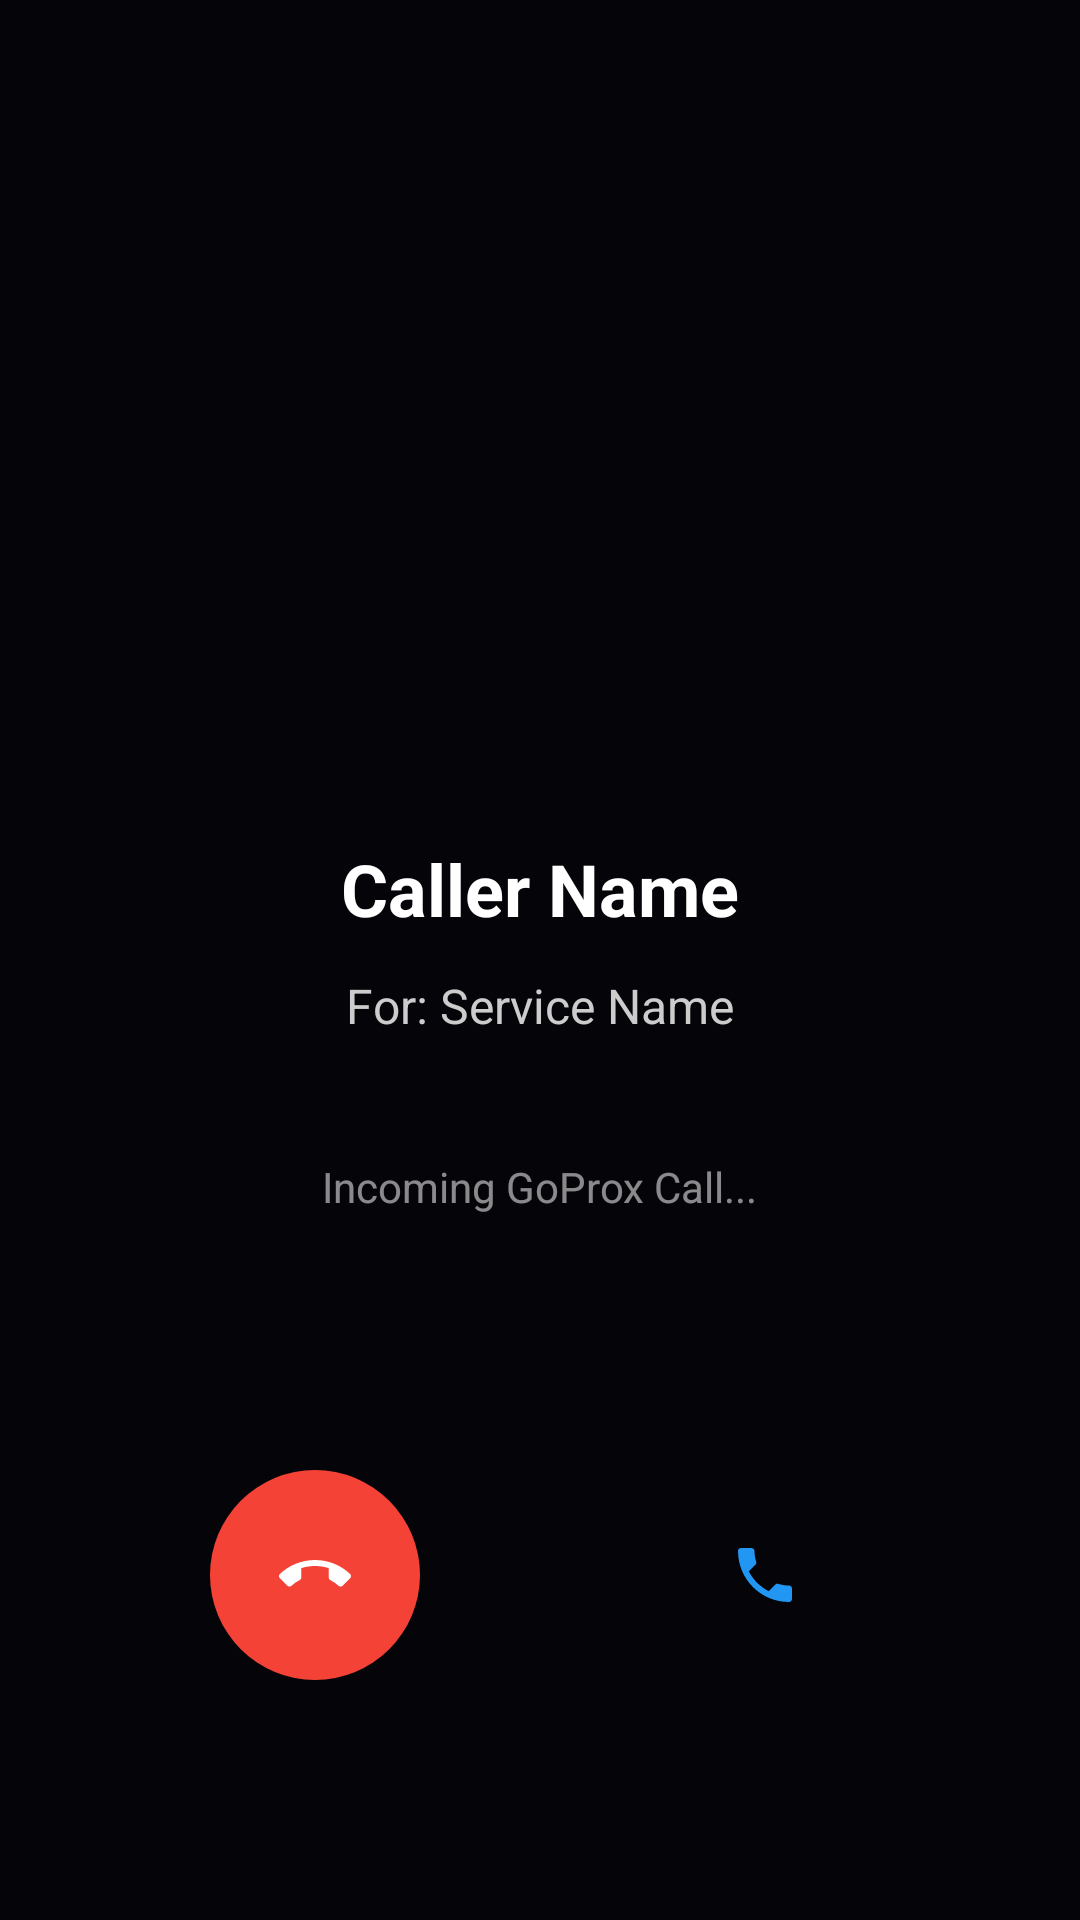

Icon bounding boxes for this 1080px x 1920px phone screenshot, format (x1, y1, x2, y2):
Accept: (738, 1548, 792, 1602)
Decline: (210, 1470, 420, 1680)
